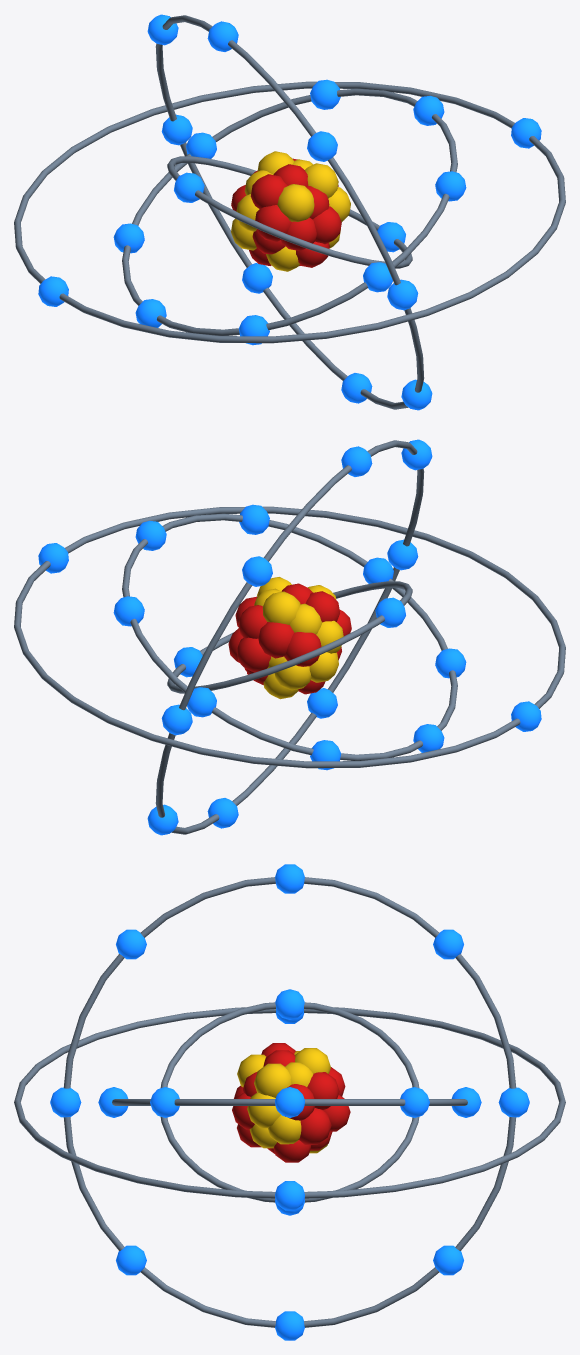
File: Atom_Ca.fbx
3 views of the same model, one above another, from view 1: azimuth 30°, elevation 25°; view 2: azimuth 150°, elevation 25°; view 3: azimuth 270°, elevation 25° (orthographic).
Parts seen in each view (by area): view 1: Ca_Orbit_3, Ca_Orbit_4, Ca_Orbit_2, Ca_Inti_Atom, Ca_Orbit_1; view 2: Ca_Orbit_3, Ca_Orbit_4, Ca_Orbit_2, Ca_Inti_Atom, Ca_Orbit_1; view 3: Ca_Orbit_3, Ca_Inti_Atom, Ca_Orbit_4, Ca_Orbit_2, Ca_Orbit_1.
Part boxes in pixels (x1,y1,x2,y2): Ca_Orbit_3: (147, 14, 432, 410); Ca_Orbit_4: (14, 81, 565, 343); Ca_Orbit_2: (113, 79, 466, 345); Ca_Inti_Atom: (231, 151, 350, 271); Ca_Orbit_1: (167, 156, 412, 268); Ca_Orbit_3: (147, 439, 432, 835); Ca_Orbit_4: (14, 506, 565, 768); Ca_Orbit_2: (113, 504, 466, 770); Ca_Inti_Atom: (228, 577, 351, 699); Ca_Orbit_1: (167, 581, 412, 693); Ca_Orbit_3: (50, 864, 529, 1340); Ca_Inti_Atom: (232, 1043, 350, 1162); Ca_Orbit_4: (14, 1007, 565, 1210); Ca_Orbit_2: (98, 1087, 481, 1117); Ca_Orbit_1: (160, 989, 419, 1215).
Size of the model in its own units: 2.02 by 1.59 by 1.94.
